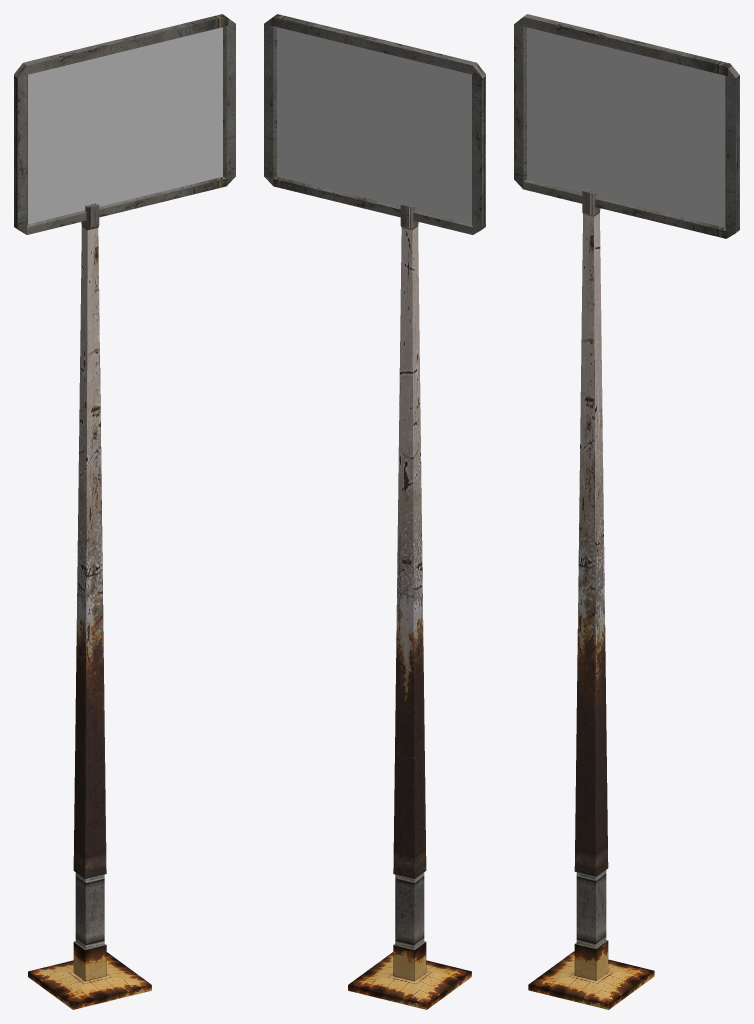
Rendered from Model_BillBoard_01.fbx.
3 views of the same model, side by side, from view 1: azimuth 30°, elevation 25°; view 2: azimuth 150°, elevation 25°; view 3: azimuth 330°, elevation 25° (orthographic).
Visible parts, largest first — view 1: BillBoard_01; view 2: BillBoard_01; view 3: BillBoard_01.
Boxes of the visible parts, x1,y1,x2,y2 form: BillBoard_01: [14, 14, 235, 1009]; BillBoard_01: [264, 14, 485, 1009]; BillBoard_01: [514, 14, 739, 1009].
Size of the model in its own units: 245 by 1005 by 87.63.
